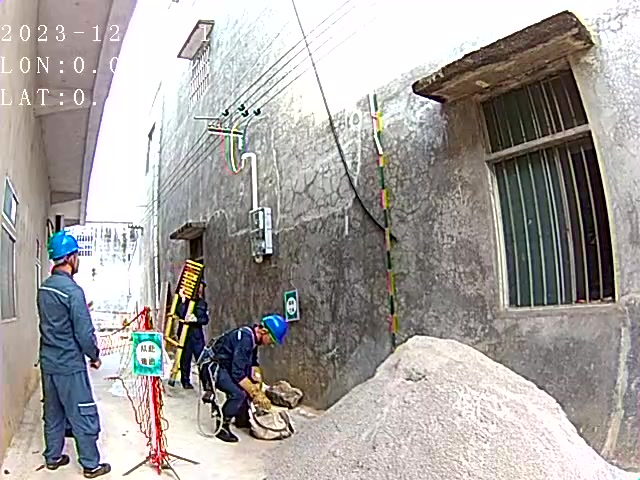downsuit: (42, 374, 105, 468), (207, 363, 249, 417)
halt: (49, 231, 83, 269), (256, 315, 288, 349)
intosign: (130, 331, 164, 374)
longglove: (238, 375, 271, 410)
person: (35, 231, 111, 477), (197, 312, 289, 441), (172, 279, 209, 389)
upsuit: (37, 274, 100, 364), (202, 326, 257, 367)
worksign: (282, 290, 301, 322)
